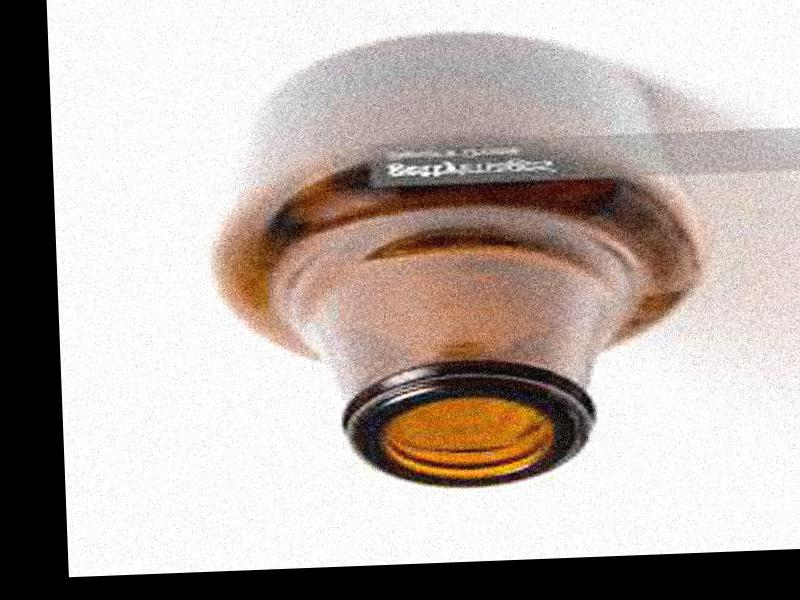Beer: (206, 21, 717, 498)
